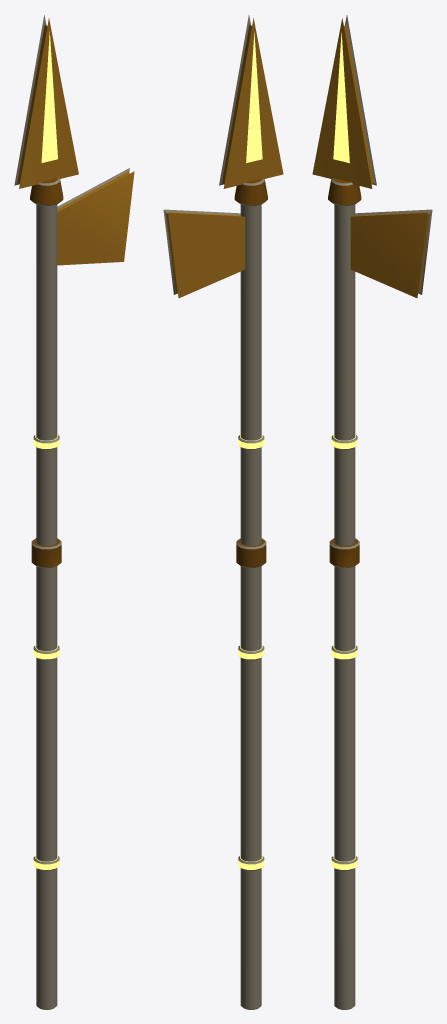
Rendered from Arma_HasteJuramentoSolar.fbx.
The picture shows the model from 3 angles, left to right: view 1: azimuth 30°, elevation 25°; view 2: azimuth 210°, elevation 25°; view 3: azimuth 330°, elevation 25°; orthographic projection.
Visible parts, largest first — view 1: Piece; view 2: Piece; view 3: Piece.
Boxes of the visible parts, x1=… form: Piece: x1=14, y1=15, x2=134, y2=1009; Piece: x1=163, y1=15, x2=283, y2=1009; Piece: x1=312, y1=15, x2=432, y2=1009.
Bounding box in the file's own units: 0.3447 × 2.82 × 0.0855.
